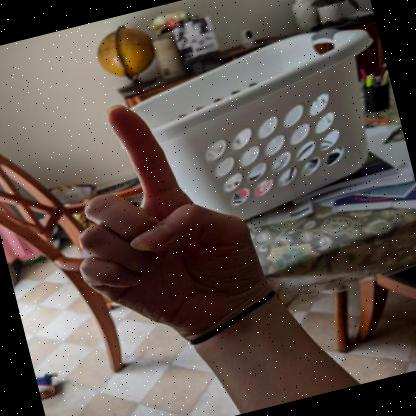D: (79, 105, 280, 341)
